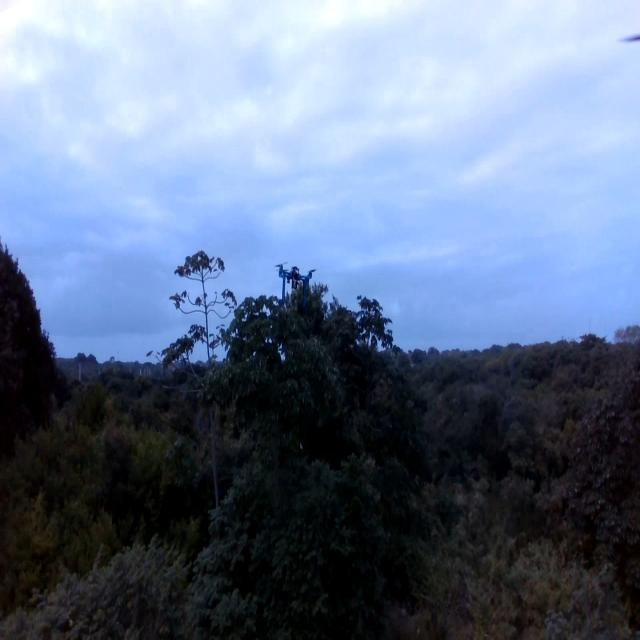-uav-: (273, 252, 317, 304)
